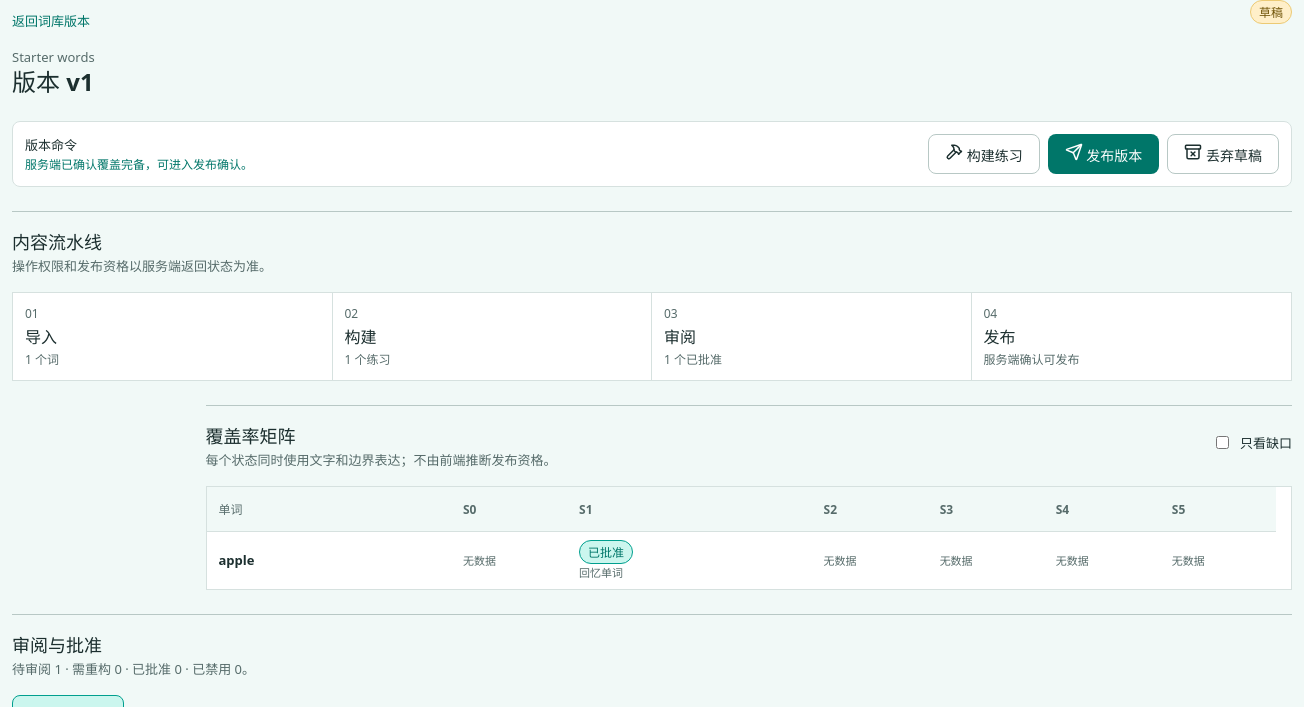
it: SourceVersionDetailPage › recovers the published state when the publish response is lost after commit
The image size is (1304, 707).
Click the button "发布版本".
click(1104, 154)  # box top-left (1048, 134), bottom-right (1159, 174)
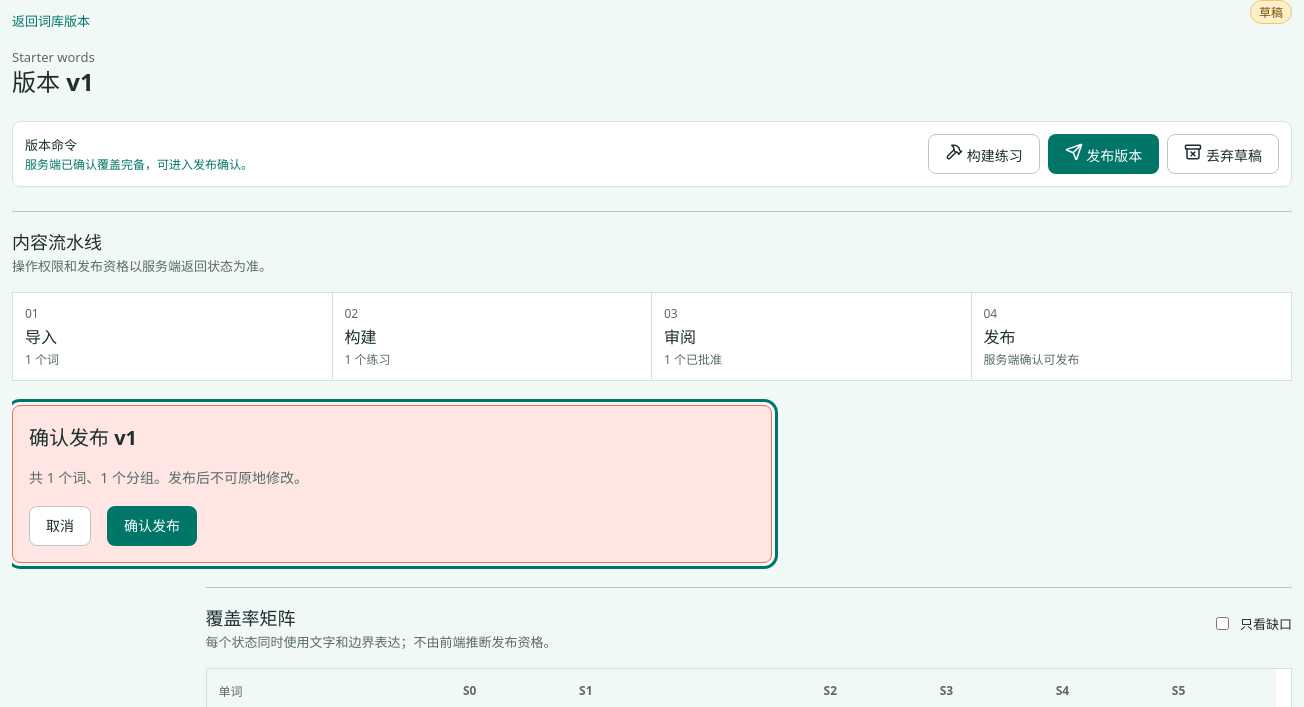
Click the button "确认发布".
click(152, 526)  # box top-left (107, 506), bottom-right (197, 546)
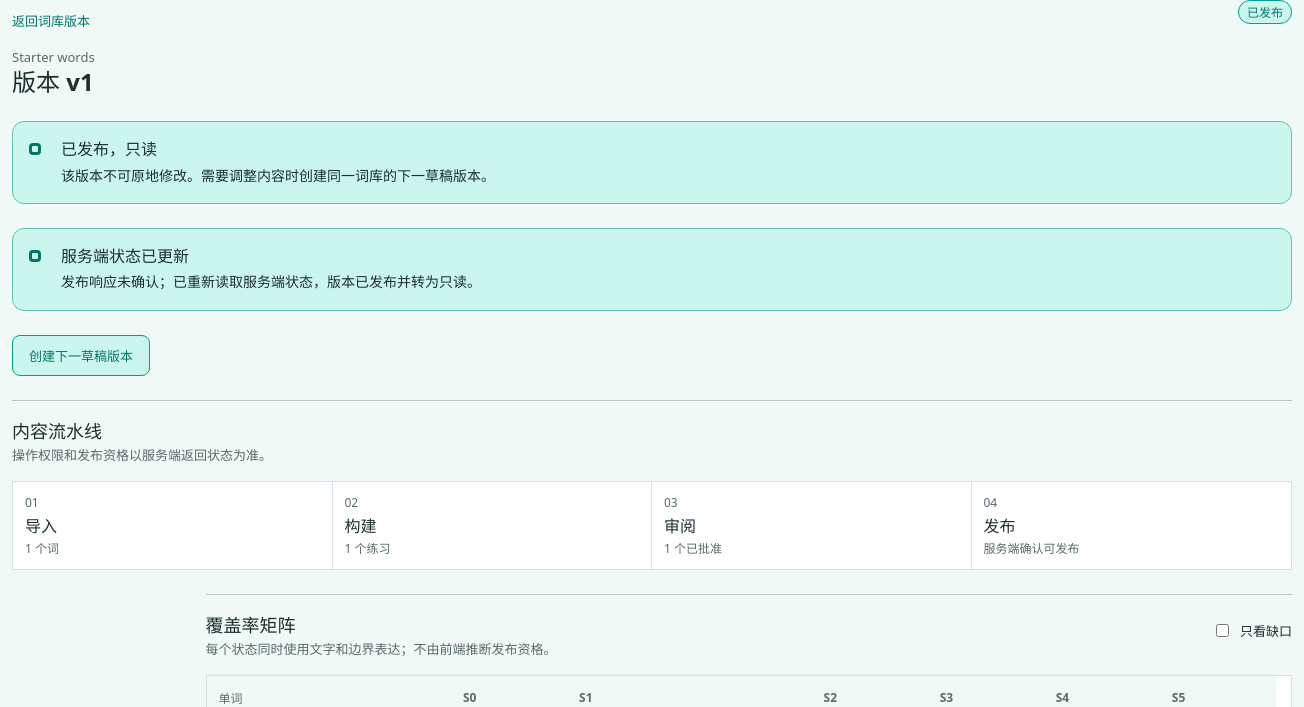
Check: the message "已发布，只读 该版本不可原地修改。需要调整内容时创建同一词库的下一草稿版本。" is shown, box top-left (12, 121), bottom-right (1292, 204)
